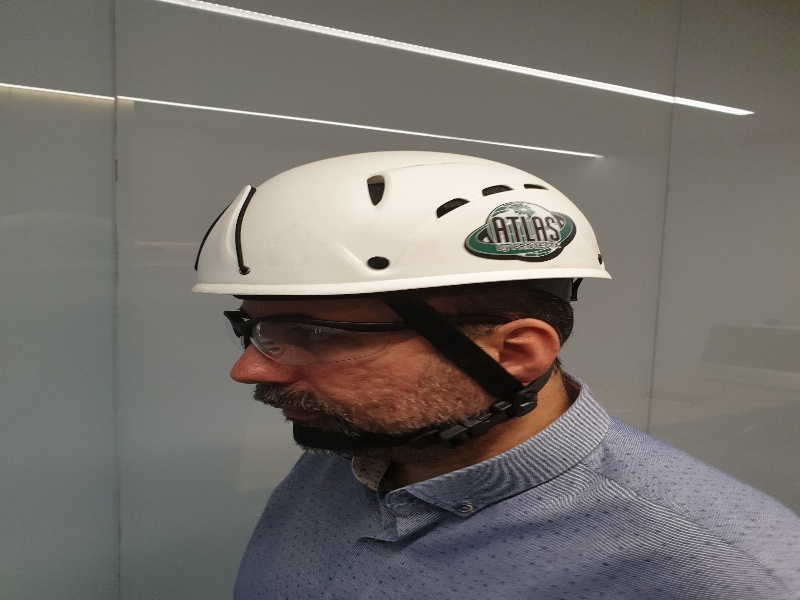Baret: (189, 149, 616, 292)
Gozluk: (220, 309, 508, 359)
